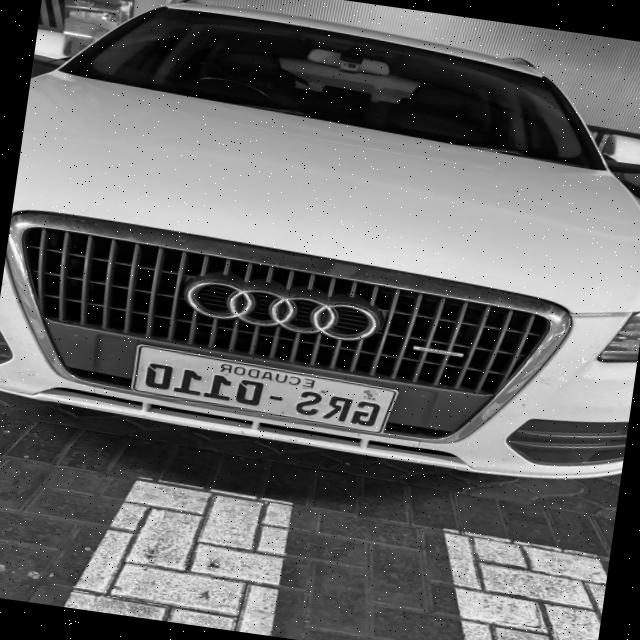Placa: (133, 345, 396, 432)
